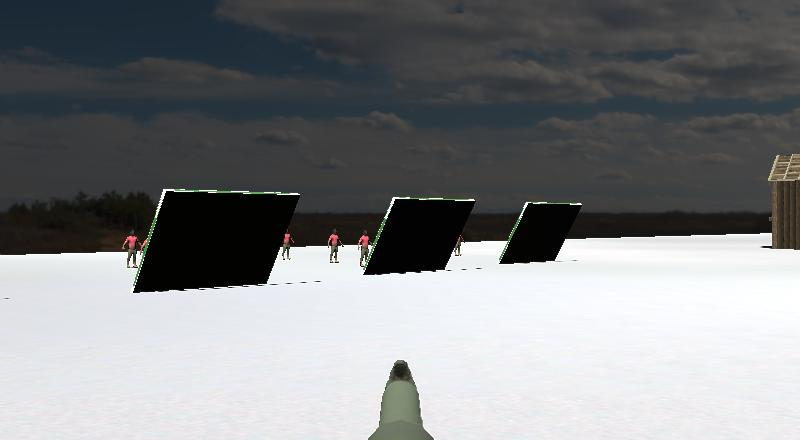House: (753, 138, 800, 268)
Human: (320, 223, 385, 272), (118, 224, 152, 276), (323, 222, 347, 269), (277, 223, 299, 265)
